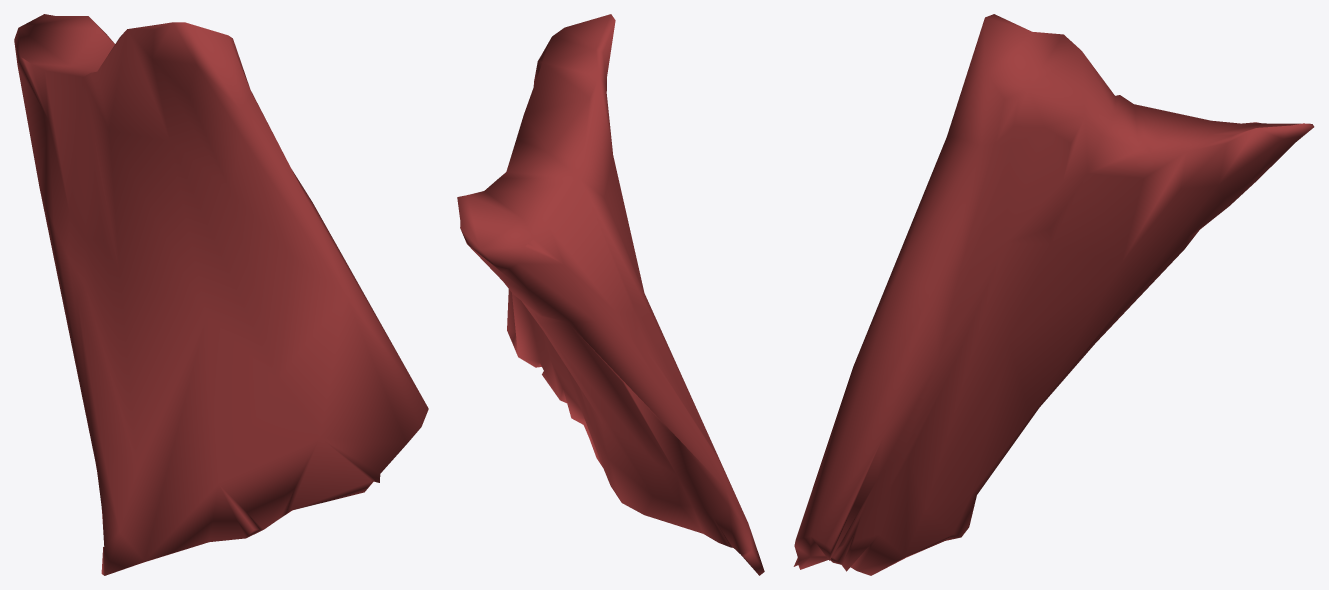
File: rectus-lateralis-capitis-muscle-r.glb
3 renders of one model, left to right at view 1: azimuth 30°, elevation 25°; view 2: azimuth 150°, elevation 25°; view 3: azimuth 270°, elevation 25°, orthographic. The views are drawn at different scales.
Visible parts, largest first — view 1: Rectus lateralis capitis muscle.r; view 2: Rectus lateralis capitis muscle.r; view 3: Rectus lateralis capitis muscle.r.
Part boxes in pixels (x1=…): Rectus lateralis capitis muscle.r: x1=14, y1=14, x2=428, y2=575; Rectus lateralis capitis muscle.r: x1=457, y1=14, x2=764, y2=575; Rectus lateralis capitis muscle.r: x1=793, y1=14, x2=1314, y2=575.
Size of the model in its own units: 0.0123 by 0.0213 by 0.0174.
